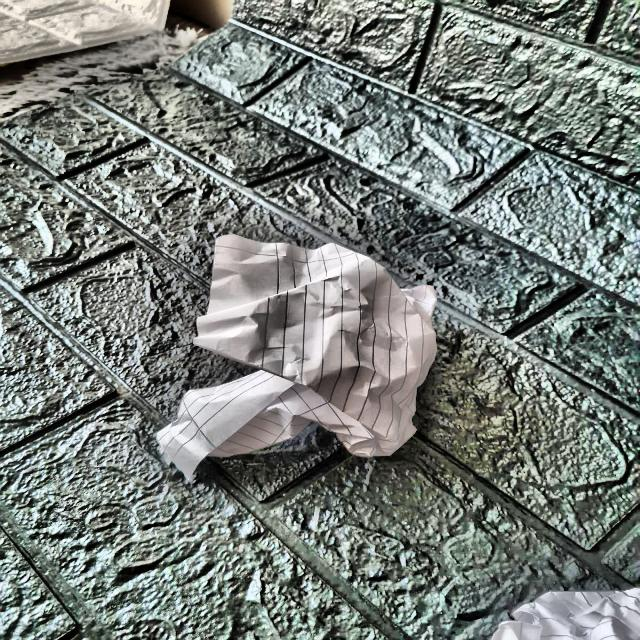Paper: (192, 235, 440, 455)
